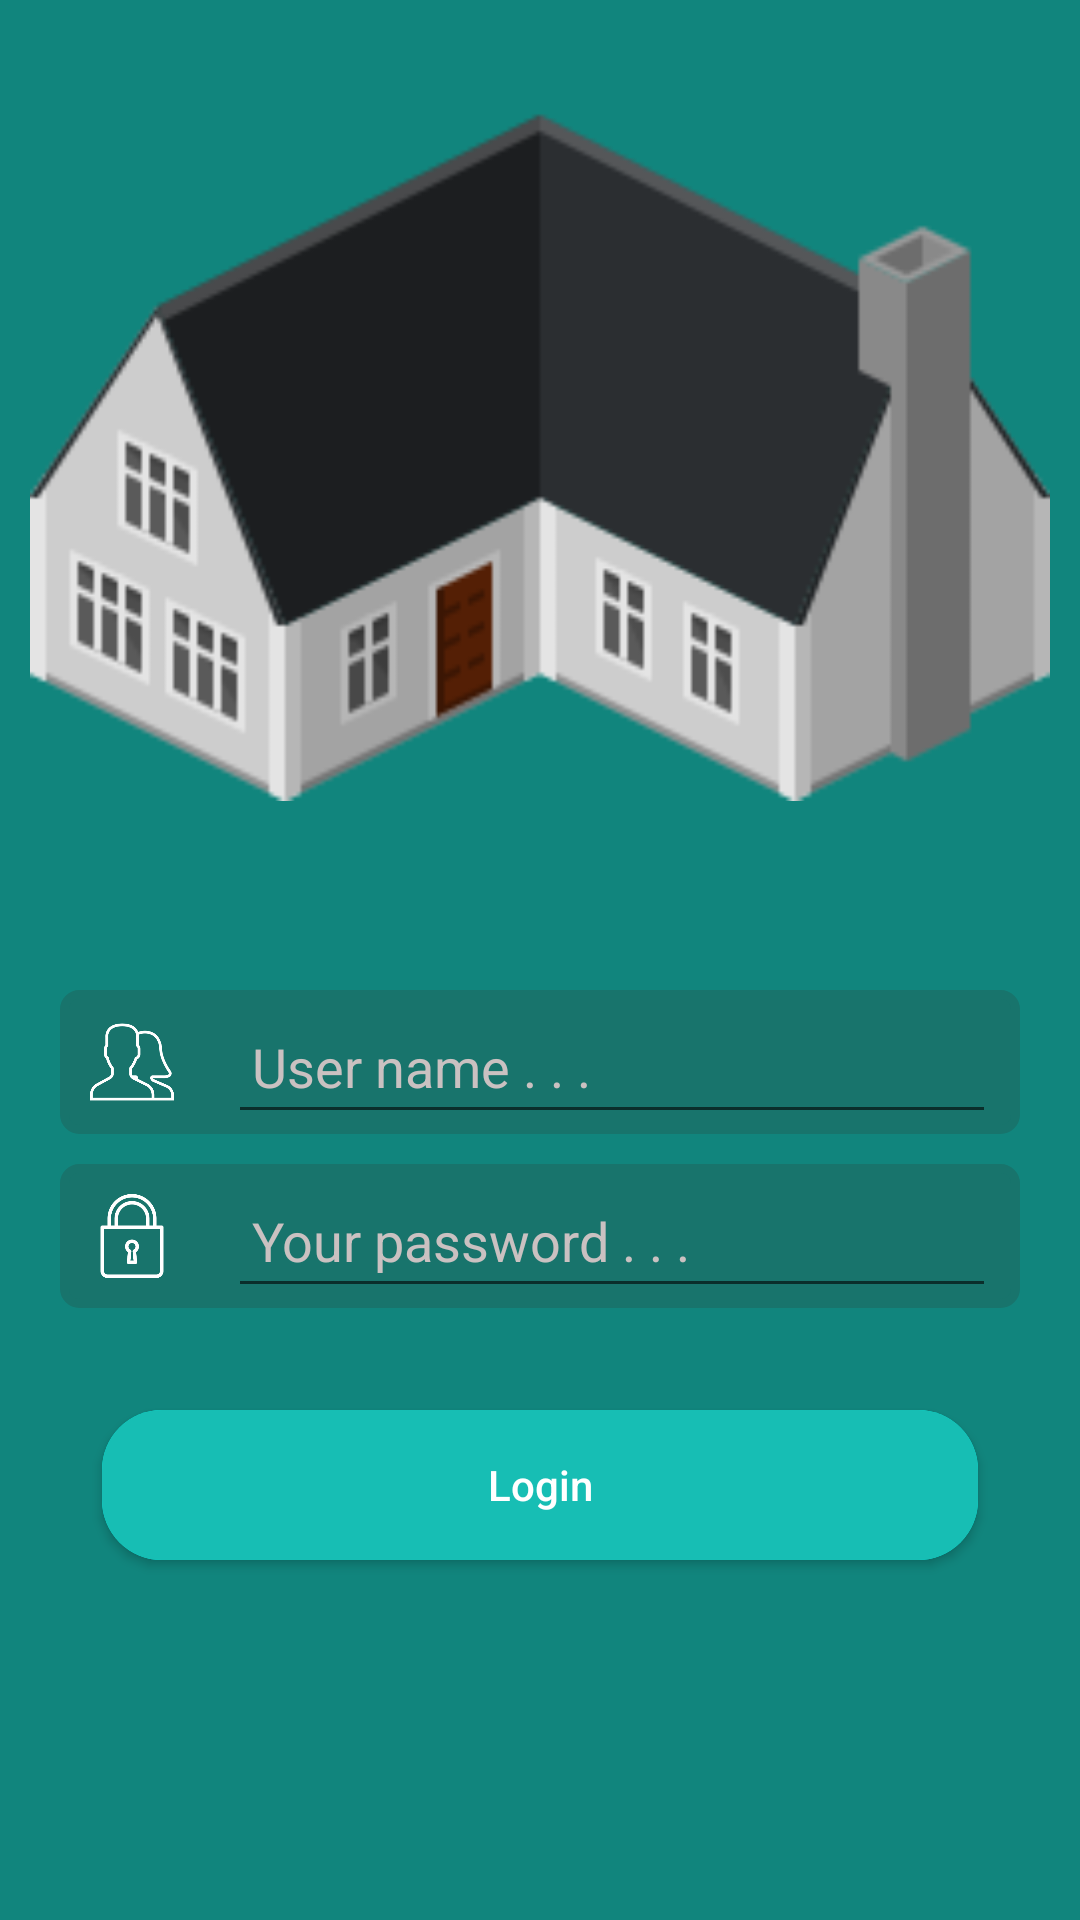

Icons on this 1080x1920 Android screen, each with the point to tap as (x,y):
lock: (132,1236)
users: (132,1062)
